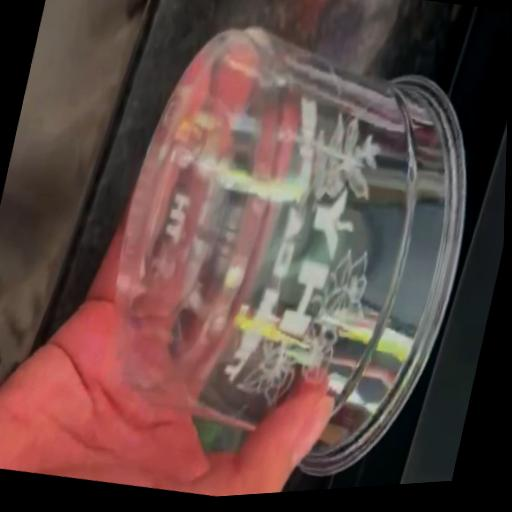ly_nhua: (117, 29, 465, 475)
